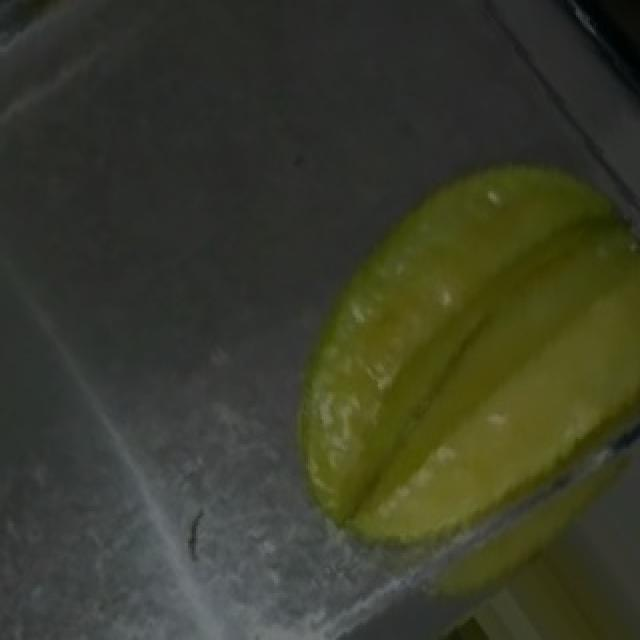fruit: (262, 67, 640, 548)
